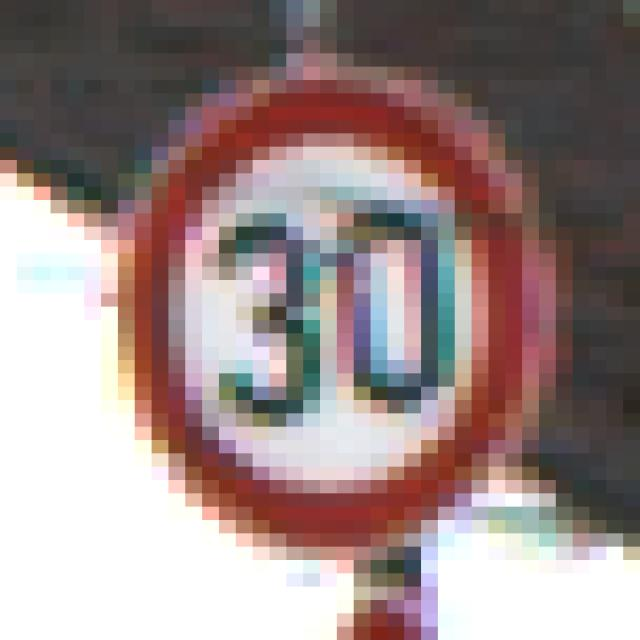Speed Limit -30-: (76, 60, 530, 567)
